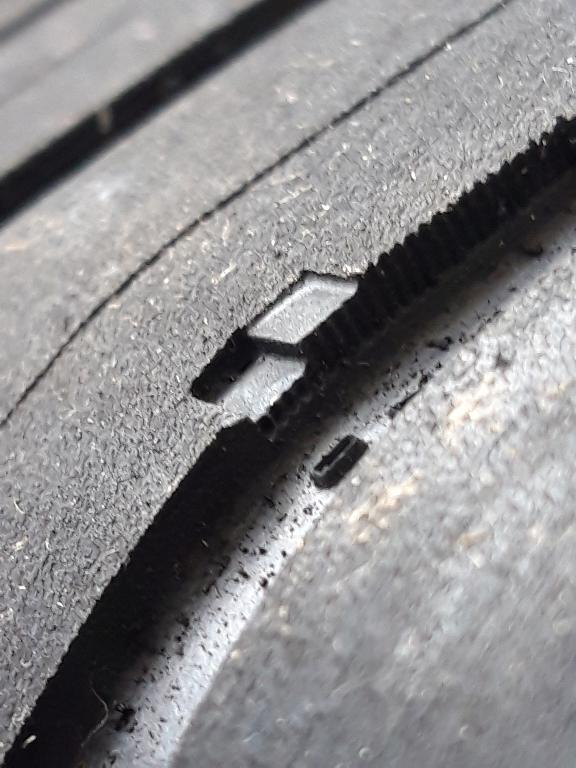temoin:25: (177, 261, 394, 449)
